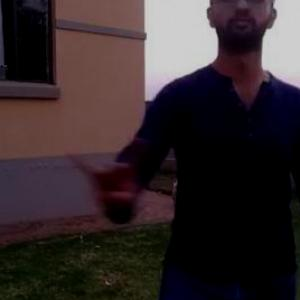takeoff-hand: (60, 138, 136, 222)
